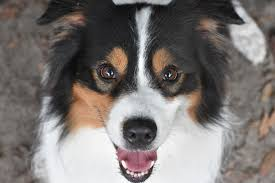dog: (87, 48, 186, 183)
